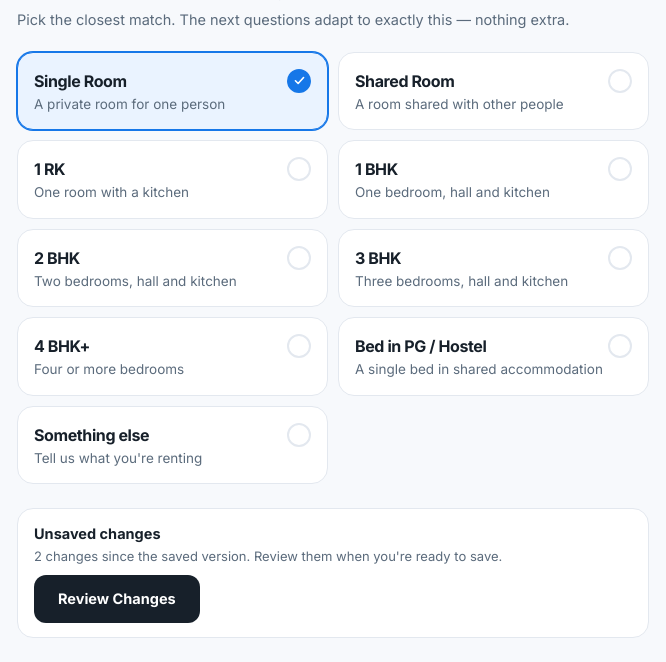
it: Review Changes entry › opens the review when dirty, showing before/after
The image size is (666, 662).
(page scrolled)
Click the button "Review Changes" at (117, 599), box [34,575,200,623]
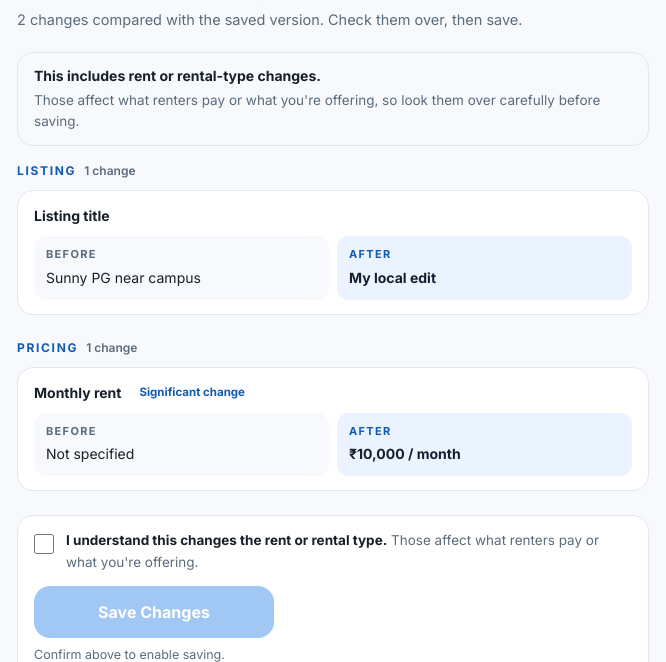
Check: the text "Listing title" is shown, box [34,205,110,226]
Check: the text "Monthly rent" is shown, box [34,382,122,403]
Check: the text "Before" below "Listing title" is shown, box [46,247,97,261]
